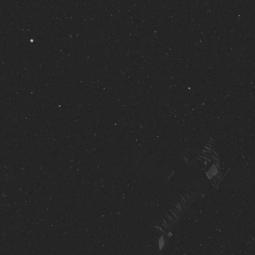xmm_newton: (137, 124, 224, 255)
